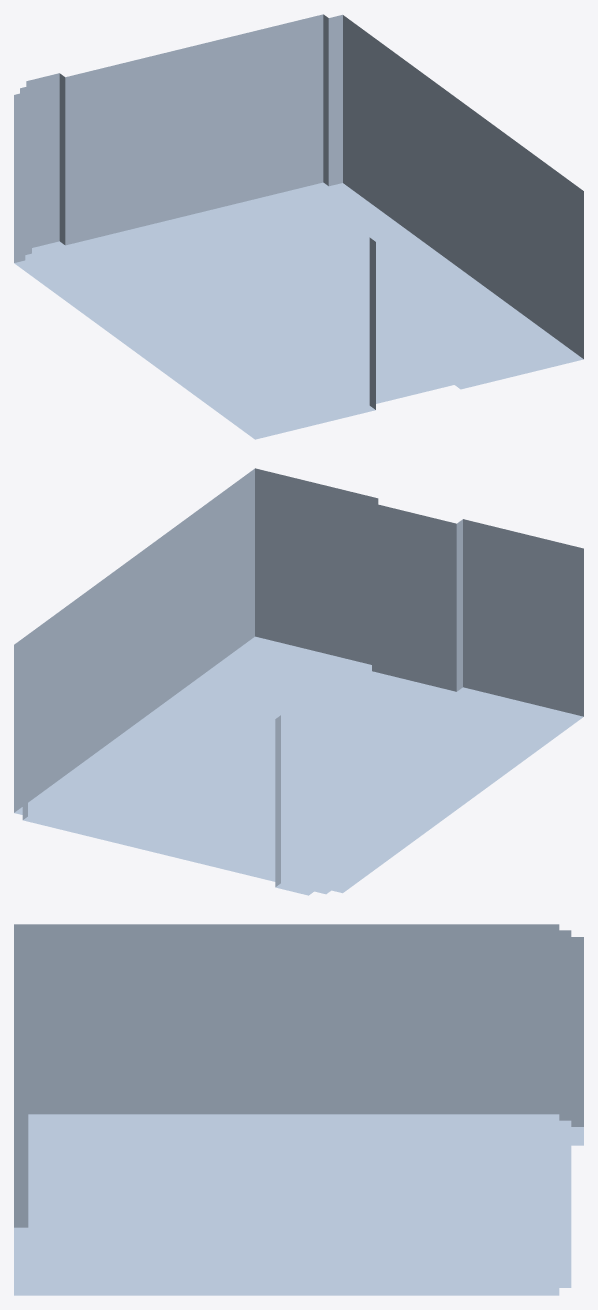
The model's file is proxy.gltf.
3 renders of one model, top to bottom at view 1: azimuth 30°, elevation 25°; view 2: azimuth 150°, elevation 25°; view 3: azimuth 270°, elevation 25°, orthographic. The views are drawn at different scales.
Visible parts, largest first — view 1: RoomProxy, GroundProxy; view 2: RoomProxy, GroundProxy; view 3: RoomProxy, GroundProxy.
Boxes of the visible parts, x1,y1,x2,y2 form: RoomProxy: [14, 14, 583, 409]; GroundProxy: [14, 182, 583, 439]; RoomProxy: [14, 468, 583, 886]; GroundProxy: [14, 636, 583, 895]; RoomProxy: [14, 924, 583, 1227]; GroundProxy: [14, 1114, 583, 1295].
Size of the model in its own units: 7.97 by 3.9 by 10.58.
